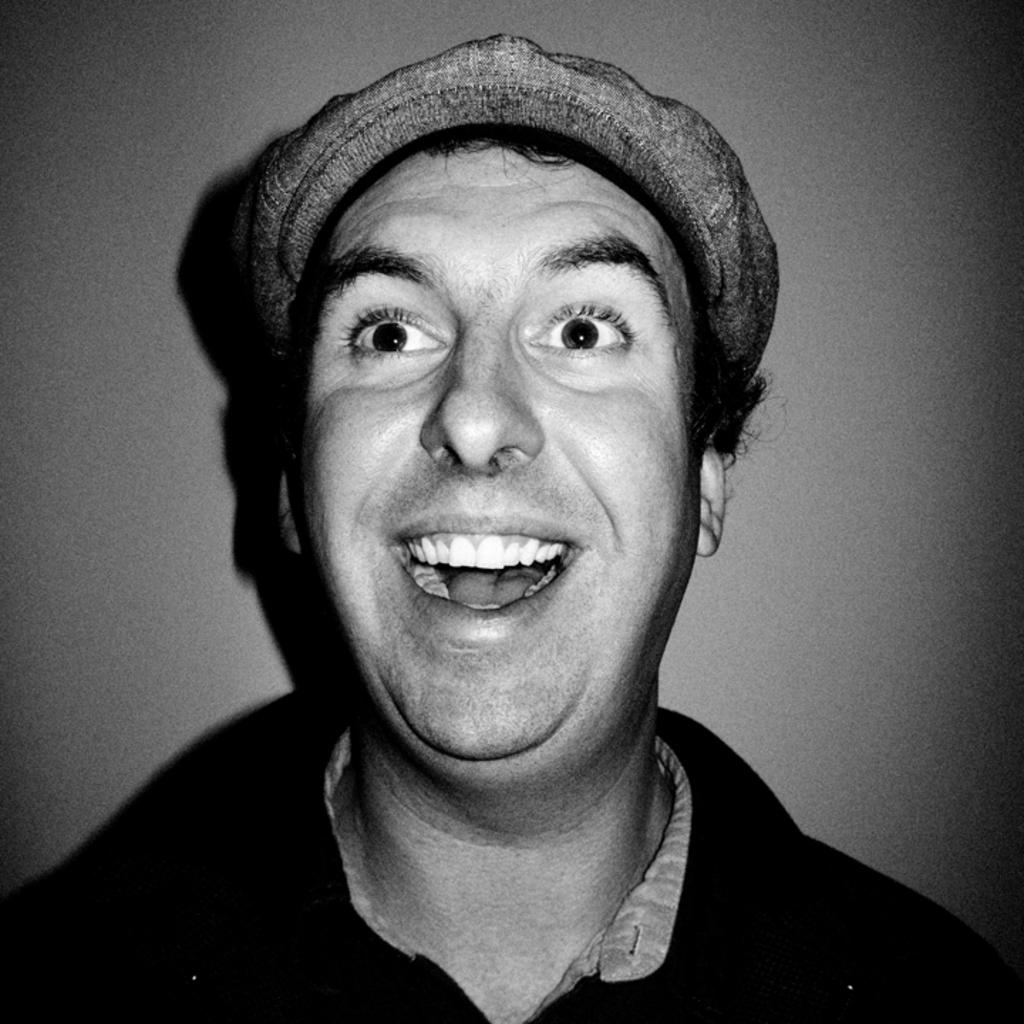Hat: (237, 28, 780, 412)
